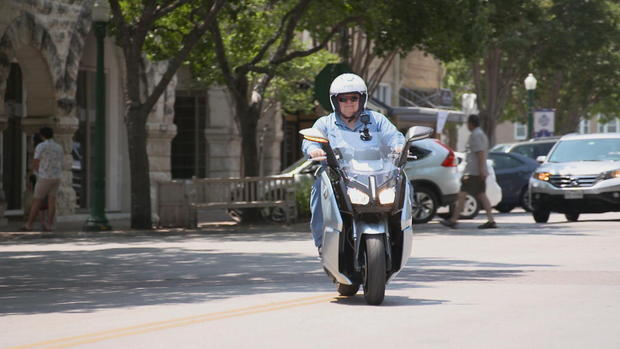helmet: (303, 71, 425, 270)
